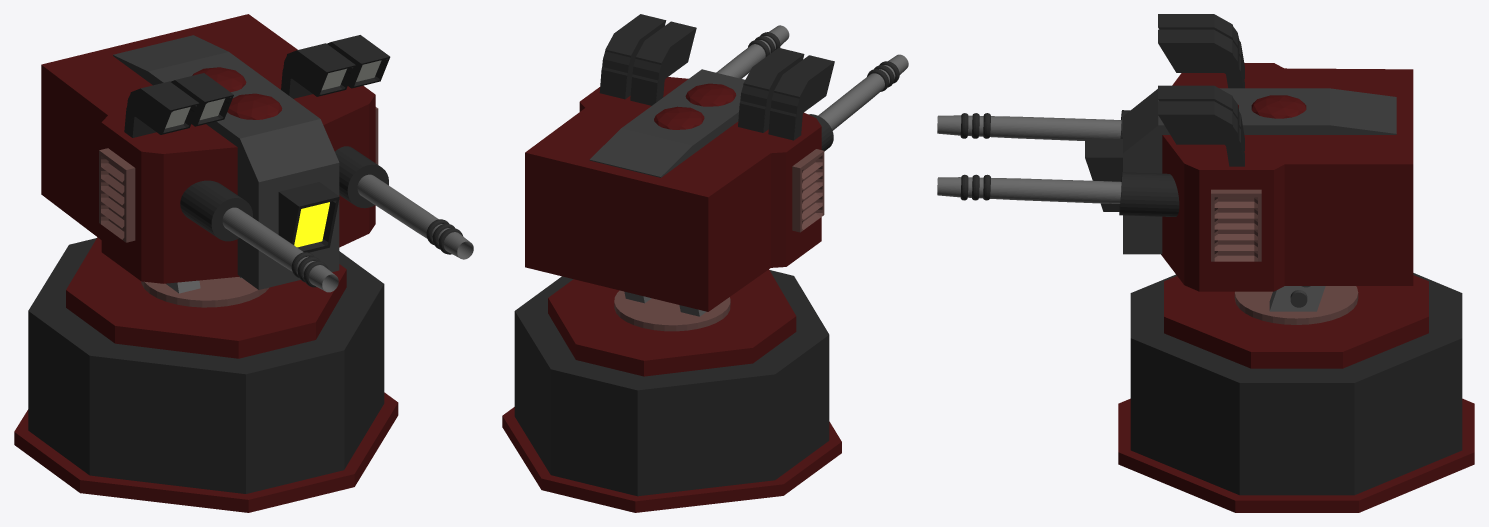
File: Turm 18.fbx
The picture shows the model from 3 angles, left to right: view 1: azimuth 30°, elevation 25°; view 2: azimuth 150°, elevation 25°; view 3: azimuth 270°, elevation 25°; orthographic projection. The views are drawn at different scales.
Parts seen in each view (by area): view 1: Cube, Cube.001; view 2: Cube, Cube.001; view 3: Cube, Cube.001.
Boxes of the visible parts, box(x1,y1,x2,y2) form: Cube: box(41, 14, 473, 358); Cube.001: box(14, 238, 398, 512); Cube: box(525, 14, 908, 376); Cube.001: box(502, 270, 841, 512); Cube: box(937, 14, 1428, 368); Cube.001: box(1118, 273, 1474, 512).
Size of the model in its own units: 307 by 370 by 479.
